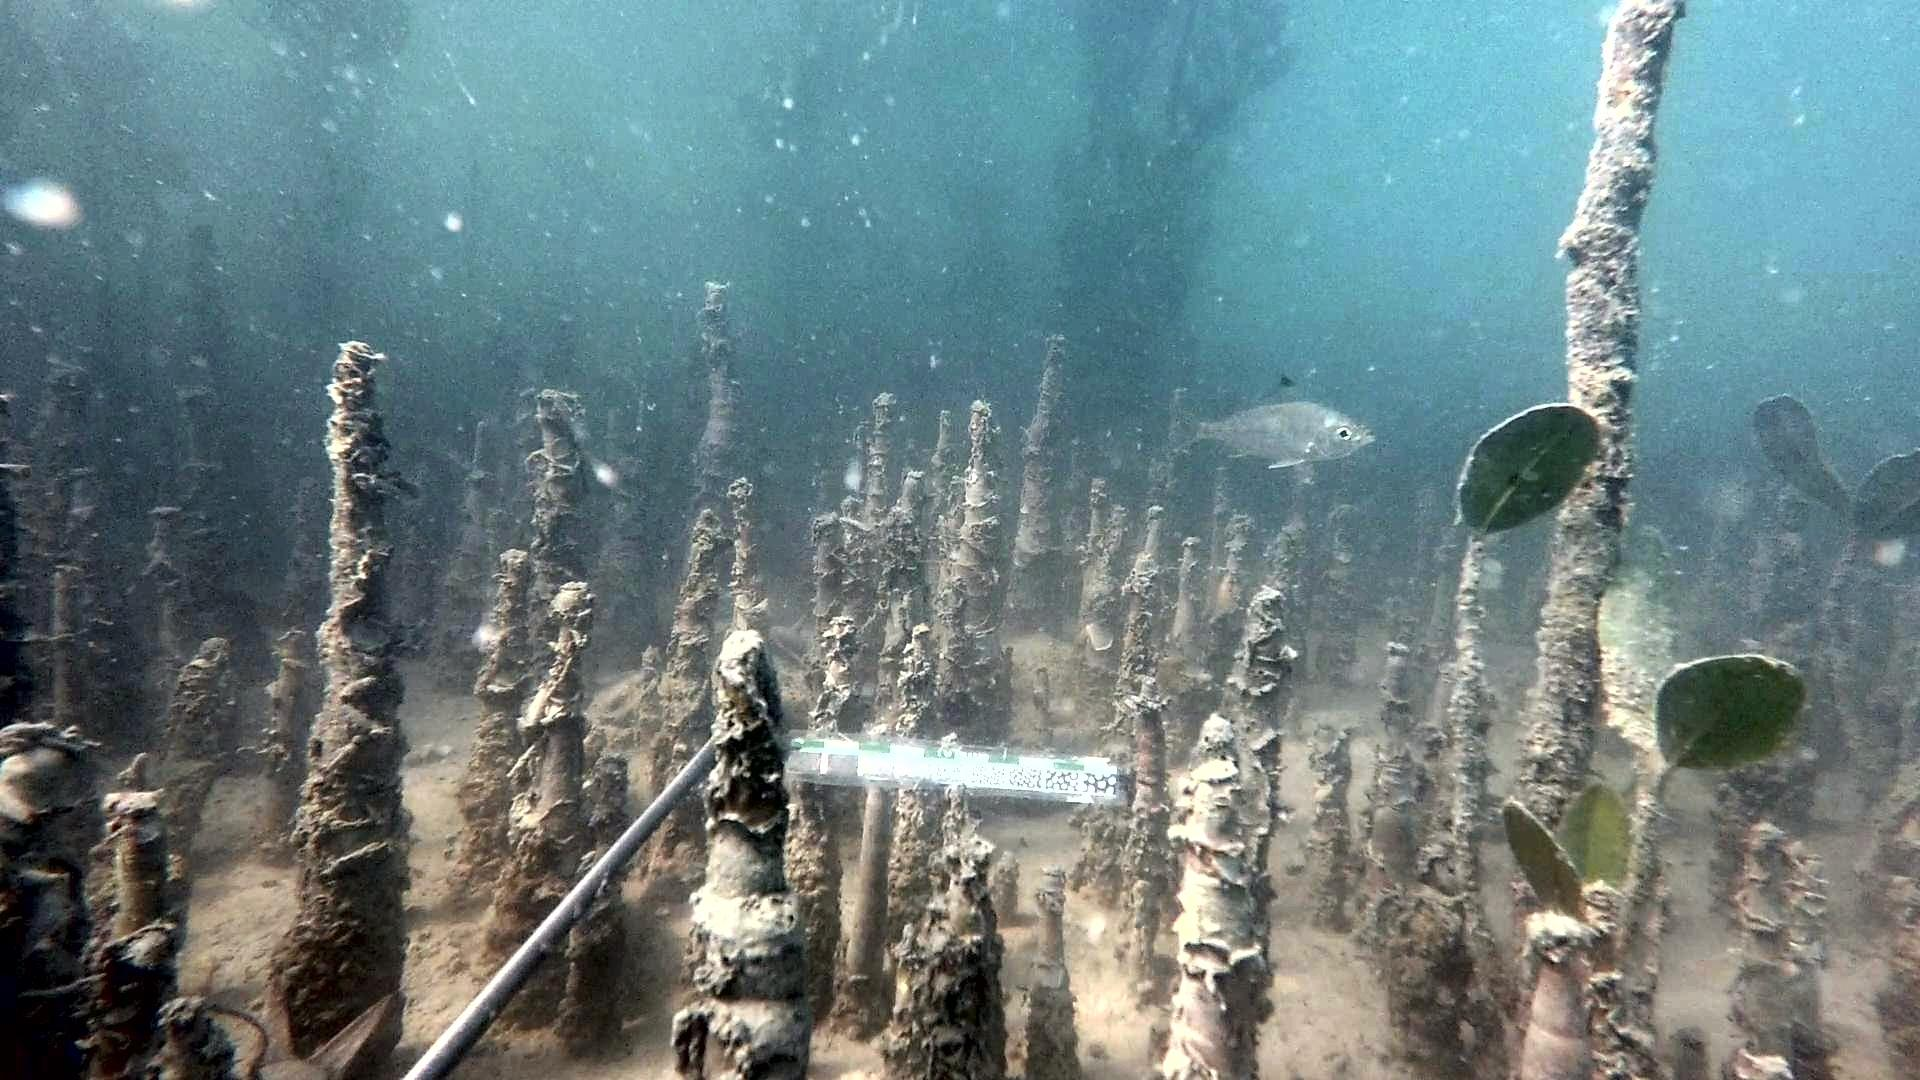gerres: (1167, 375, 1382, 471)
